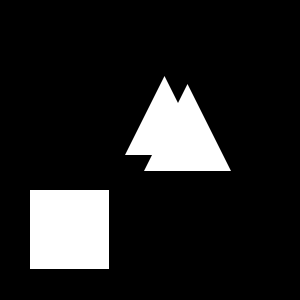circle: (30, 190, 109, 269)
triangle: (144, 84, 231, 171), (125, 76, 204, 155)
